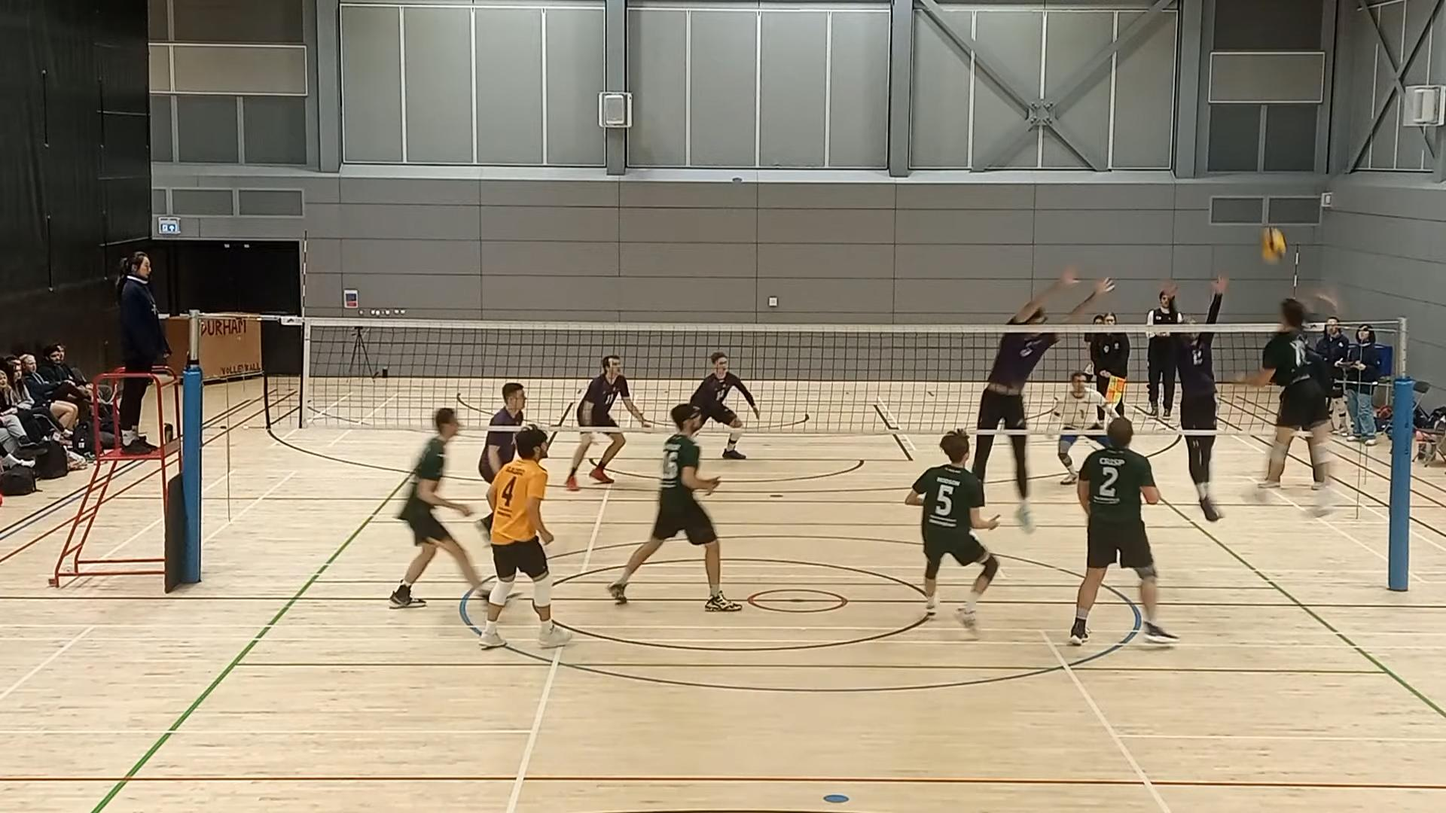Attack: (1235, 287, 1347, 520)
Block: (955, 261, 1116, 534), (1156, 267, 1233, 534)
Player: (609, 404, 740, 611), (1069, 418, 1177, 644), (480, 426, 571, 648), (905, 429, 999, 629), (390, 408, 481, 607), (566, 355, 651, 490), (690, 352, 760, 459), (1053, 371, 1106, 484), (478, 382, 526, 483)
ball: (1256, 230, 1286, 265)
